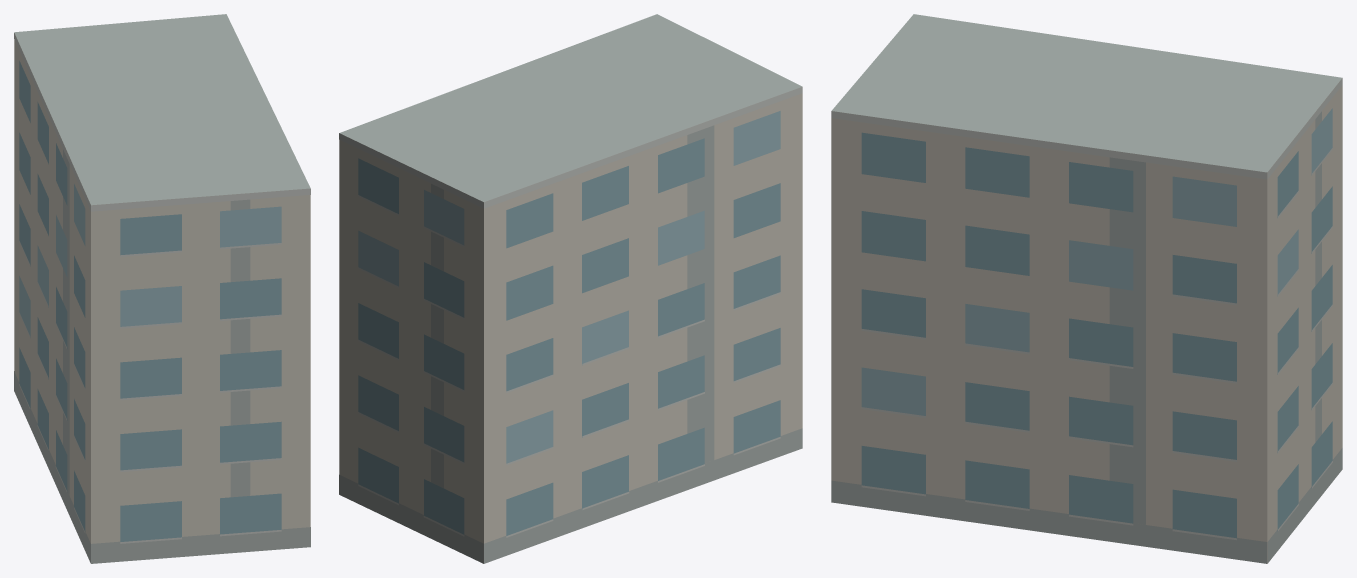
File: survey-upis-32971735.glb
3 views of the same model, side by side, from view 1: azimuth 30°, elevation 25°; view 2: azimuth 150°, elevation 25°; view 3: azimuth 270°, elevation 25° (orthographic). The views are drawn at different scales.
Visible parts, largest first — view 1: survey-upis-32971735.tmp; view 2: survey-upis-32971735.tmp; view 3: survey-upis-32971735.tmp.
Boxes of the visible parts, x1=… form: survey-upis-32971735.tmp: x1=14, y1=14, x2=310, y2=563; survey-upis-32971735.tmp: x1=339, y1=14, x2=802, y2=563; survey-upis-32971735.tmp: x1=831, y1=14, x2=1342, y2=563.
Bounding box in the file's own units: 11.69 × 13.45 × 15.93.
